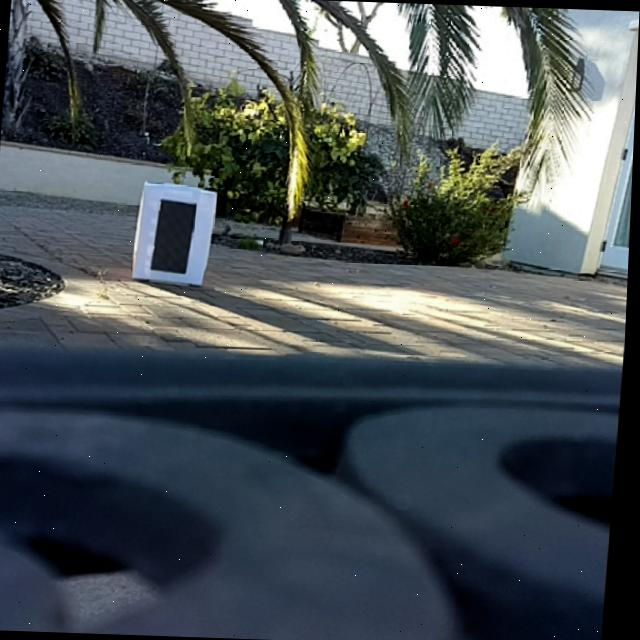led: (154, 196, 198, 274)
